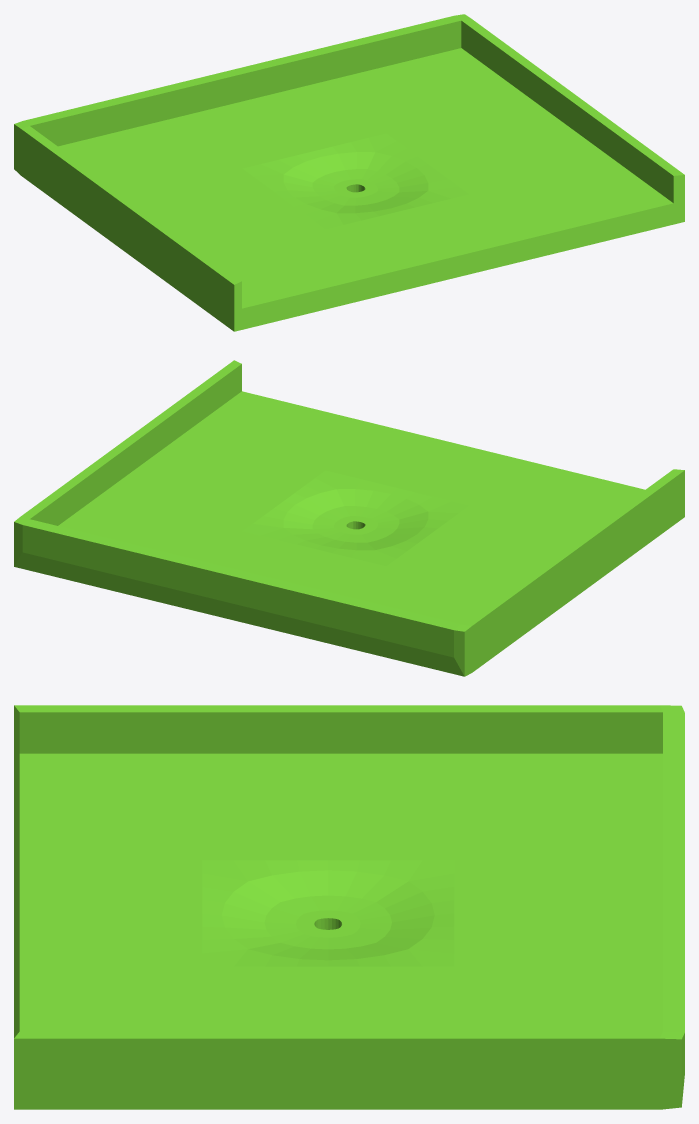
Rendered from golfsquare_end_hole.glb.
3 renders of one model, top to bottom at view 1: azimuth 30°, elevation 25°; view 2: azimuth 150°, elevation 25°; view 3: azimuth 270°, elevation 25°, orthographic. The views are drawn at different scales.
Parts seen in each view (by area): view 1: Cube; view 2: Cube; view 3: Cube.
Boxes of the visible parts, x1,y1,x2,y2 form: Cube: [14, 14, 684, 331]; Cube: [14, 360, 684, 676]; Cube: [14, 705, 684, 1109].
Bounding box in the file's own units: 13.16 × 1.31 × 11.19.
